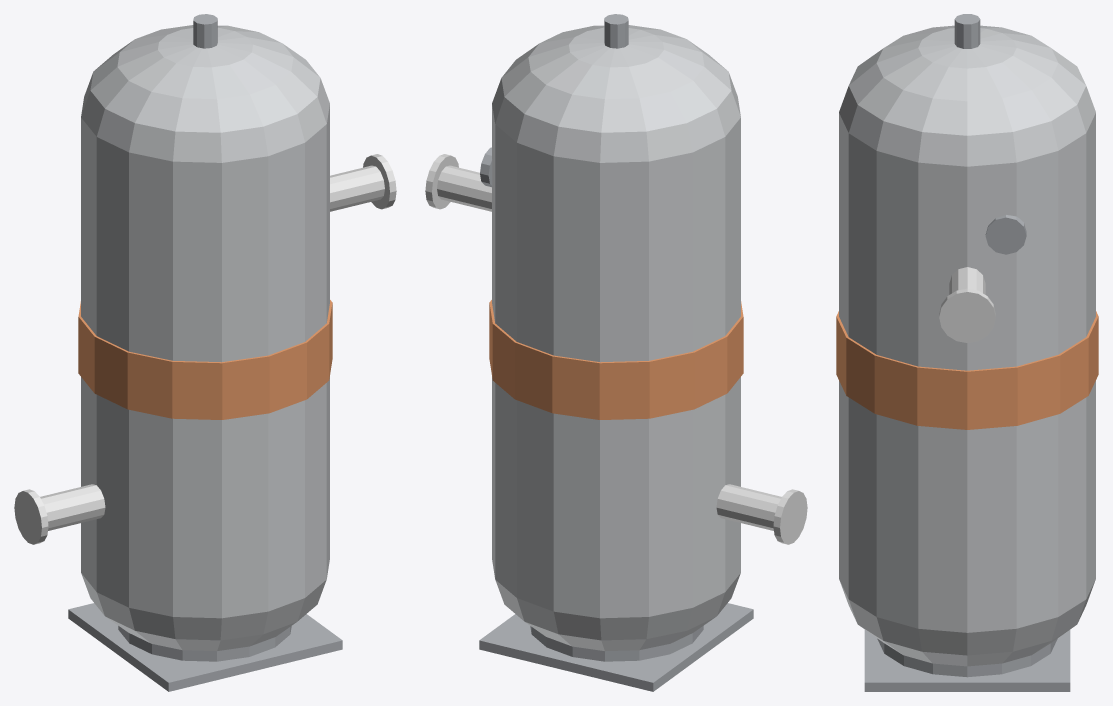
File: co2 tank.fbx
3 views of the same model, side by side, from view 1: azimuth 30°, elevation 25°; view 2: azimuth 150°, elevation 25°; view 3: azimuth 270°, elevation 25° (orthographic). The views are drawn at different scales.
Parts seen in each view (by area): view 1: CO2Tank_Shell, CO2Tank_Cap_Top, CO2Tank_ID_Band, CO2Tank_Base, CO2Tank_Cap_Bottom, CO2Tank_Outlet, CO2Tank_Inlet, CO2Tank_Skirt, CO2Tank_Outlet_flange, CO2Tank_Inlet_flange, CO2Tank_Relief_Valve; view 2: CO2Tank_Shell, CO2Tank_Cap_Top, CO2Tank_ID_Band, CO2Tank_Base, CO2Tank_Cap_Bottom, CO2Tank_Outlet, CO2Tank_Skirt, CO2Tank_Inlet, CO2Tank_Outlet_flange, CO2Tank_Inlet_flange, CO2Tank_Relief_Valve; view 3: CO2Tank_Shell, CO2Tank_Cap_Top, CO2Tank_ID_Band, CO2Tank_Cap_Bottom, CO2Tank_Base, CO2Tank_Inlet_flange, CO2Tank_Skirt, CO2Tank_Pressure_Gauge, CO2Tank_Relief_Valve, CO2Tank_Inlet.
Part boxes in pixels (bbox=[...]): CO2Tank_Shell: bbox=[81, 105, 329, 618]; CO2Tank_Cap_Top: bbox=[81, 25, 329, 162]; CO2Tank_ID_Band: bbox=[78, 300, 332, 419]; CO2Tank_Base: bbox=[68, 603, 342, 691]; CO2Tank_Cap_Bottom: bbox=[81, 573, 326, 651]; CO2Tank_Outlet: bbox=[40, 484, 105, 530]; CO2Tank_Inlet: bbox=[330, 165, 384, 211]; CO2Tank_Skirt: bbox=[118, 626, 291, 661]; CO2Tank_Outlet_flange: bbox=[14, 489, 48, 544]; CO2Tank_Inlet_flange: bbox=[363, 154, 396, 209]; CO2Tank_Relief_Valve: bbox=[193, 14, 217, 48]; CO2Tank_Shell: bbox=[492, 105, 740, 618]; CO2Tank_Cap_Top: bbox=[492, 25, 740, 162]; CO2Tank_ID_Band: bbox=[489, 300, 743, 419]; CO2Tank_Base: bbox=[479, 603, 753, 691]; CO2Tank_Cap_Bottom: bbox=[495, 573, 740, 651]; CO2Tank_Outlet: bbox=[716, 484, 781, 530]; CO2Tank_Skirt: bbox=[530, 626, 703, 661]; CO2Tank_Inlet: bbox=[437, 165, 491, 211]; CO2Tank_Outlet_flange: bbox=[773, 489, 807, 544]; CO2Tank_Inlet_flange: bbox=[425, 154, 458, 209]; CO2Tank_Relief_Valve: bbox=[604, 14, 628, 48]; CO2Tank_Shell: bbox=[839, 113, 1095, 632]; CO2Tank_Cap_Top: bbox=[839, 25, 1095, 166]; CO2Tank_ID_Band: bbox=[836, 311, 1098, 429]; CO2Tank_Cap_Bottom: bbox=[839, 580, 1095, 666]; CO2Tank_Base: bbox=[864, 630, 1070, 691]; CO2Tank_Inlet_flange: bbox=[939, 288, 995, 342]; CO2Tank_Skirt: bbox=[877, 638, 1057, 677]; CO2Tank_Pressure_Gauge: bbox=[985, 215, 1026, 254]; CO2Tank_Relief_Valve: bbox=[954, 14, 980, 48]; CO2Tank_Inlet: bbox=[949, 267, 985, 294].
Bounding box in the file's own units: 163 × 270 × 102.
